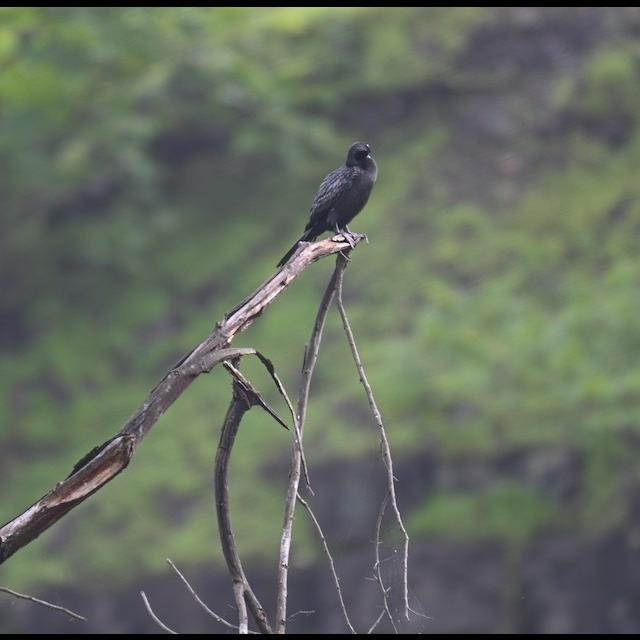cormorant: (273, 139, 385, 273)
